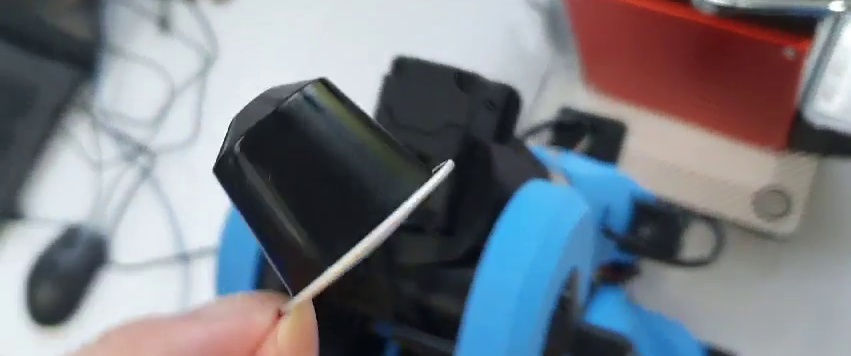capsule_10: (210, 76, 460, 317)
